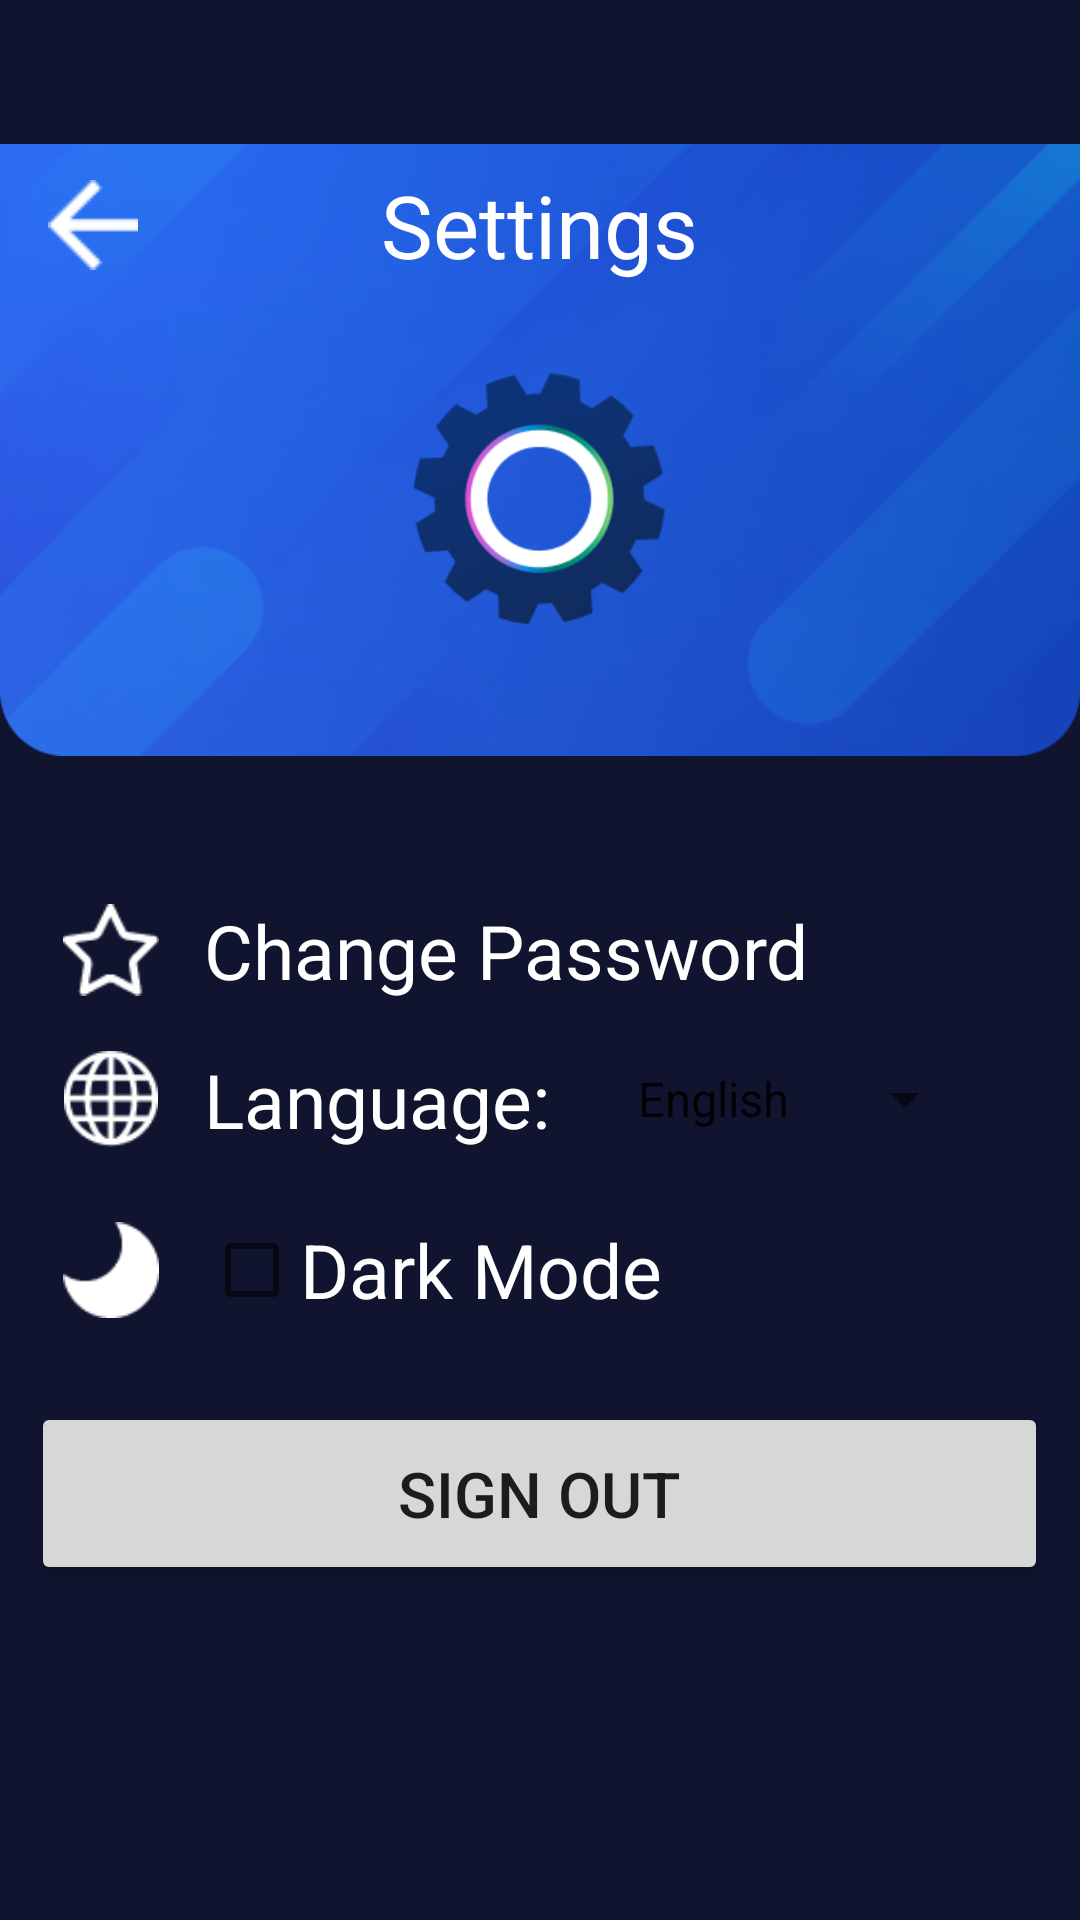

Screen size 1080*1920. Icon name, then its box in pixels as (x1, y1, x2, y2):
backfigma: (48, 180, 138, 270)
